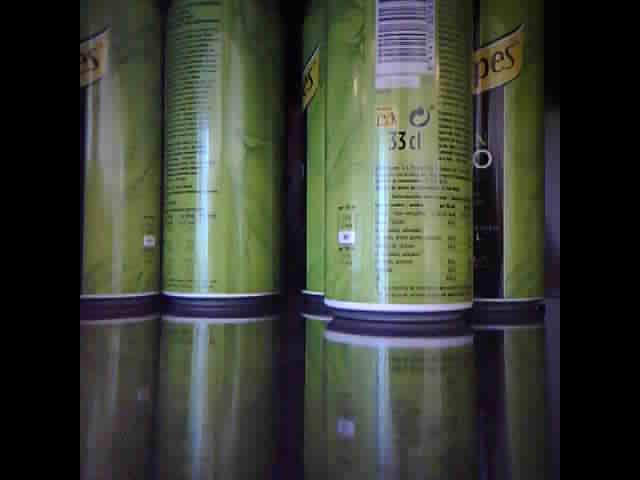schweppes: (323, 2, 476, 319), (162, 10, 280, 305), (81, 3, 162, 303), (474, 8, 543, 312), (296, 3, 327, 302)
